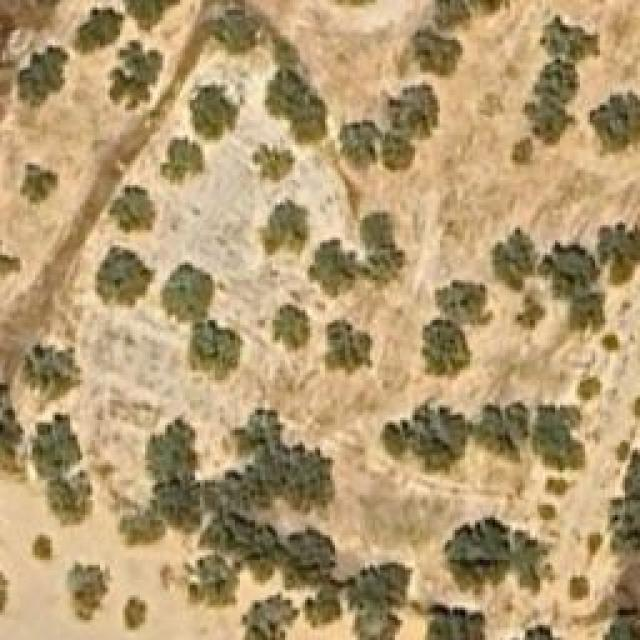Tree: (95, 248, 158, 308), (263, 73, 323, 136), (525, 400, 583, 465), (448, 523, 503, 588), (410, 410, 468, 468), (590, 90, 640, 155), (435, 275, 495, 329), (423, 320, 473, 384), (18, 48, 68, 111), (33, 413, 80, 480), (358, 212, 403, 280), (160, 265, 215, 320), (65, 560, 113, 623), (145, 423, 195, 483), (50, 468, 96, 532), (20, 348, 75, 401), (262, 198, 310, 258), (323, 320, 373, 375), (540, 18, 603, 61), (185, 555, 238, 606), (388, 85, 444, 133), (283, 533, 334, 585), (353, 560, 406, 608), (543, 248, 593, 298), (410, 25, 462, 73), (433, 0, 510, 32), (68, 10, 123, 53), (213, 5, 263, 51), (242, 597, 295, 640), (190, 88, 235, 138), (605, 577, 640, 640), (425, 605, 488, 640), (110, 188, 158, 233), (483, 412, 528, 460), (192, 325, 240, 370), (595, 230, 640, 278), (310, 243, 353, 293), (490, 235, 530, 285), (160, 140, 205, 183), (120, 508, 163, 552), (272, 305, 310, 350), (20, 163, 58, 206), (567, 290, 605, 333), (540, 60, 578, 103), (127, 0, 177, 32), (340, 123, 375, 168), (378, 418, 412, 459), (308, 590, 344, 627), (255, 145, 290, 183), (530, 105, 563, 140), (122, 595, 150, 635), (575, 373, 608, 403), (510, 135, 539, 167), (380, 135, 408, 165), (598, 325, 624, 355), (33, 533, 53, 563), (568, 578, 591, 603), (545, 477, 568, 495), (537, 505, 555, 520)
